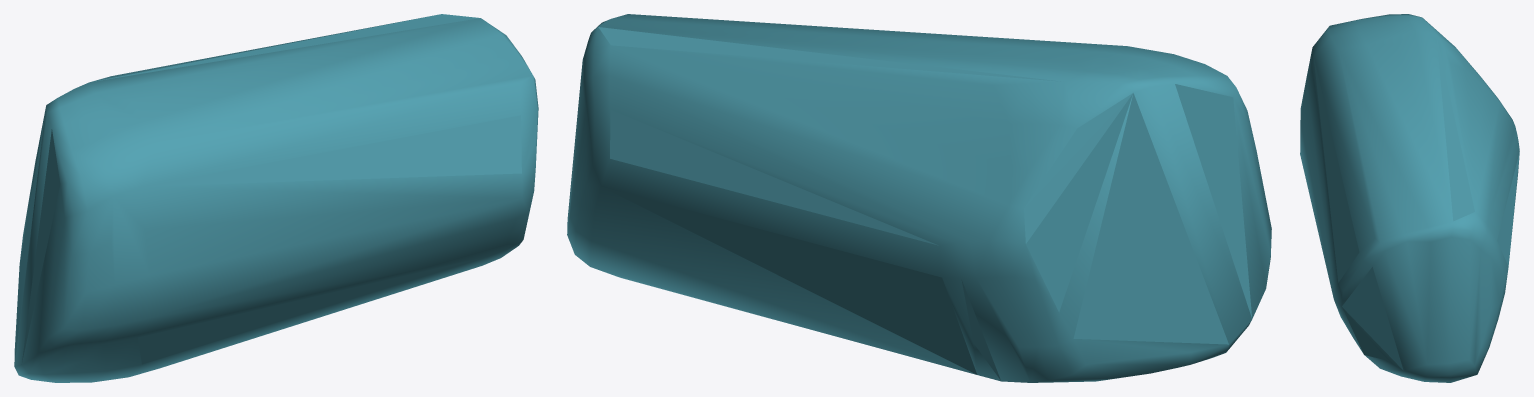
The model's file is COL_Alpha_Surface_013_convex_hull.dae.
3 renders of one model, left to right at view 1: azimuth 30°, elevation 25°; view 2: azimuth 150°, elevation 25°; view 3: azimuth 270°, elevation 25°, orthographic. The views are drawn at different scales.
Parts seen in each view (by area): view 1: COL_Alpha_Surface_013_convex_hull; view 2: COL_Alpha_Surface_013_convex_hull; view 3: COL_Alpha_Surface_013_convex_hull.
Part boxes in pixels (box(x1,y1,x2,y2)): COL_Alpha_Surface_013_convex_hull: box(14, 14, 538, 382); COL_Alpha_Surface_013_convex_hull: box(567, 14, 1271, 382); COL_Alpha_Surface_013_convex_hull: box(1300, 14, 1519, 382).
Size of the model in its own units: 29.59 by 13.25 by 13.92.
